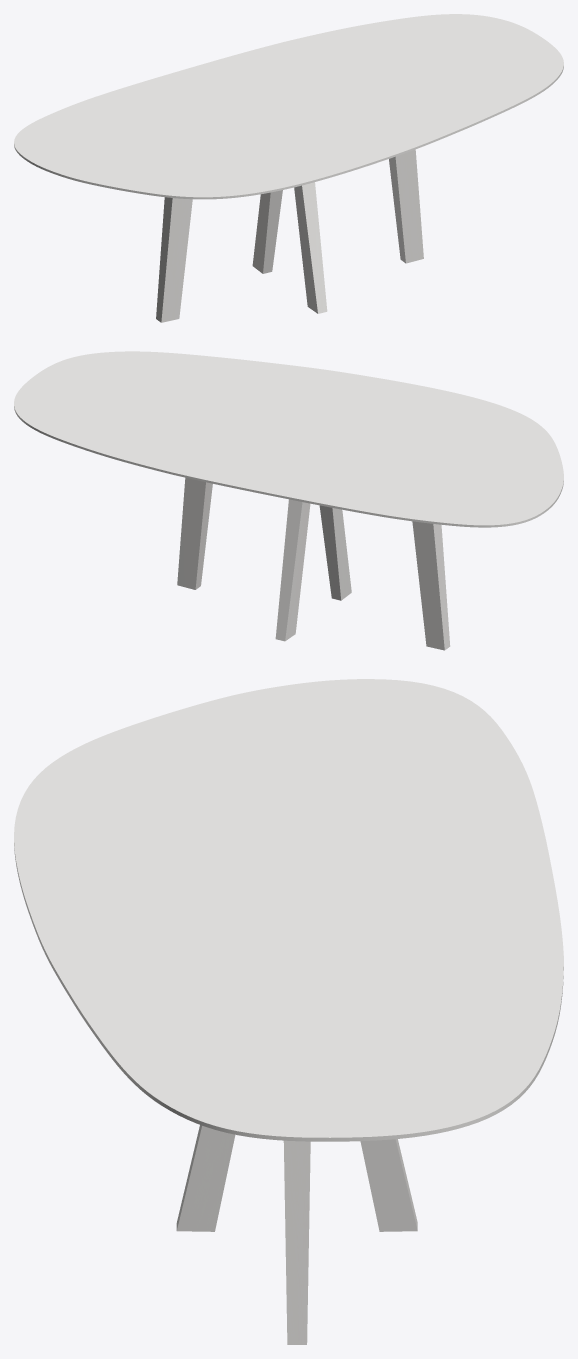
The model's file is purewhite_leaf2_facet_searwalnut.glb.
3 renders of one model, top to bottom at view 1: azimuth 30°, elevation 25°; view 2: azimuth 150°, elevation 25°; view 3: azimuth 270°, elevation 25°, orthographic. The views are drawn at different scales.
Parts seen in each view (by area): view 1: facet_leaf2, searwalnut; view 2: facet_leaf2, searwalnut; view 3: facet_leaf2, searwalnut.
Boxes of the visible parts, x1,y1,x2,y2 form: facet_leaf2: (14, 14, 563, 199); searwalnut: (156, 149, 423, 322); facet_leaf2: (14, 351, 563, 527); searwalnut: (177, 477, 450, 650); facet_leaf2: (14, 679, 563, 1141); searwalnut: (176, 1125, 417, 1344).
Bounding box in the file's own units: 7.5 × 2.5 × 3.8.
Materials: 1 (1 with a texture image).
